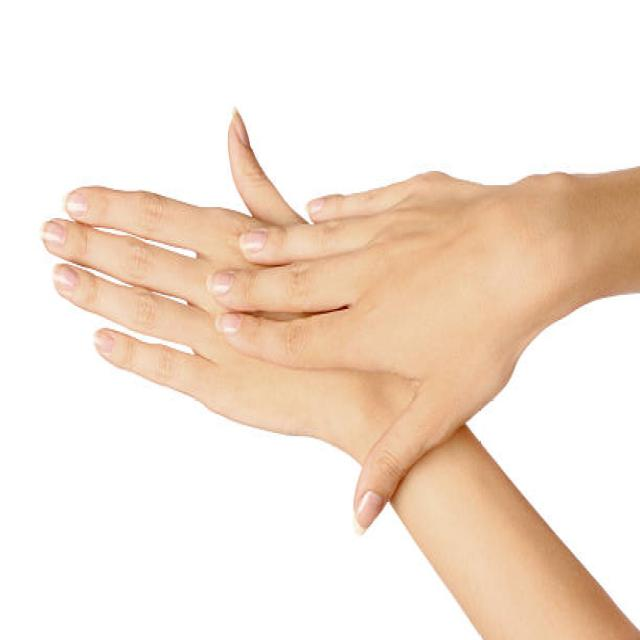Nail: (355, 491, 385, 532), (230, 109, 249, 147), (54, 264, 79, 292), (41, 221, 66, 248), (66, 191, 88, 218), (240, 231, 266, 253), (216, 313, 241, 335), (208, 272, 234, 293), (306, 197, 324, 218)
